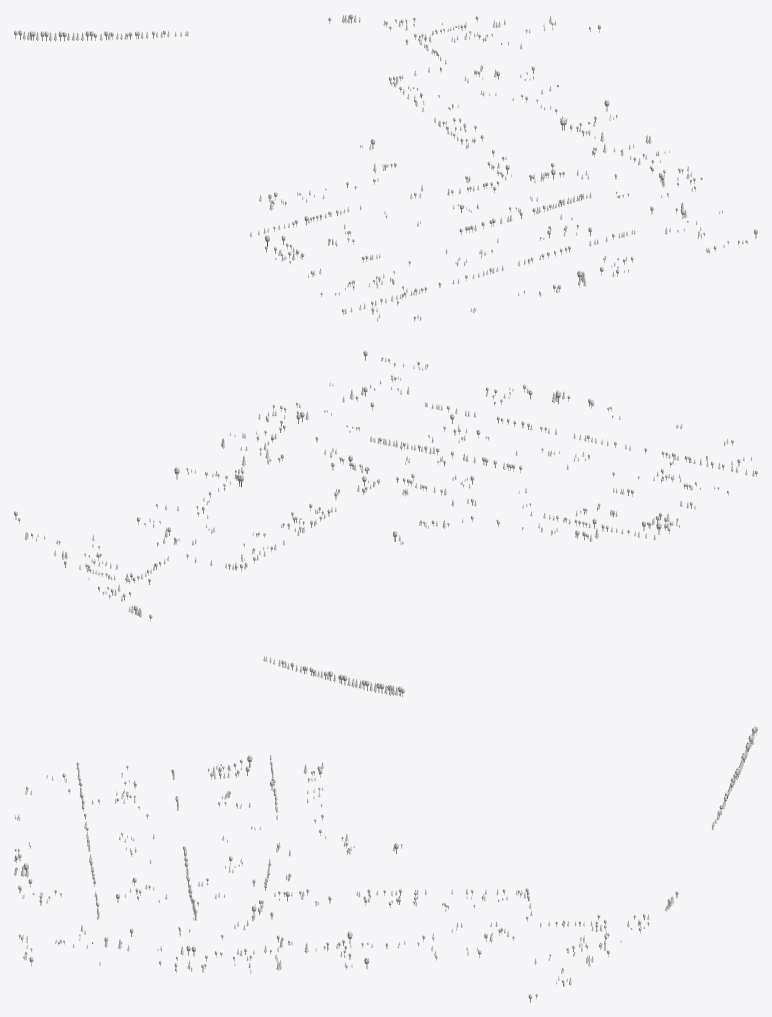
Rendered from stromy.glb.
3 views of the same model, one above another, from view 1: azimuth 30°, elevation 25°; view 2: azimuth 150°, elevation 25°; view 3: azimuth 270°, elevation 25° (orthographic). The views are drawn at different scales.
Parts seen in each view (by area): view 1: Stromy_Listnate_01_04, Stromy_Ihlicnate_01_04; view 2: Stromy_Listnate_01_04, Stromy_Ihlicnate_01_04; view 3: Stromy_Listnate_01_04, Stromy_Ihlicnate_01_04.
Boxes of the visible parts, <box> form: Stromy_Listnate_01_04: <box>14,14,757,321</box>; Stromy_Ihlicnate_01_04: <box>23,14,746,321</box>; Stromy_Listnate_01_04: <box>14,350,757,697</box>; Stromy_Ihlicnate_01_04: <box>25,358,754,695</box>; Stromy_Listnate_01_04: <box>14,726,757,1002</box>; Stromy_Ihlicnate_01_04: <box>14,731,754,986</box>.
Bounding box in the file's own units: 539 × 48.33 × 705.
